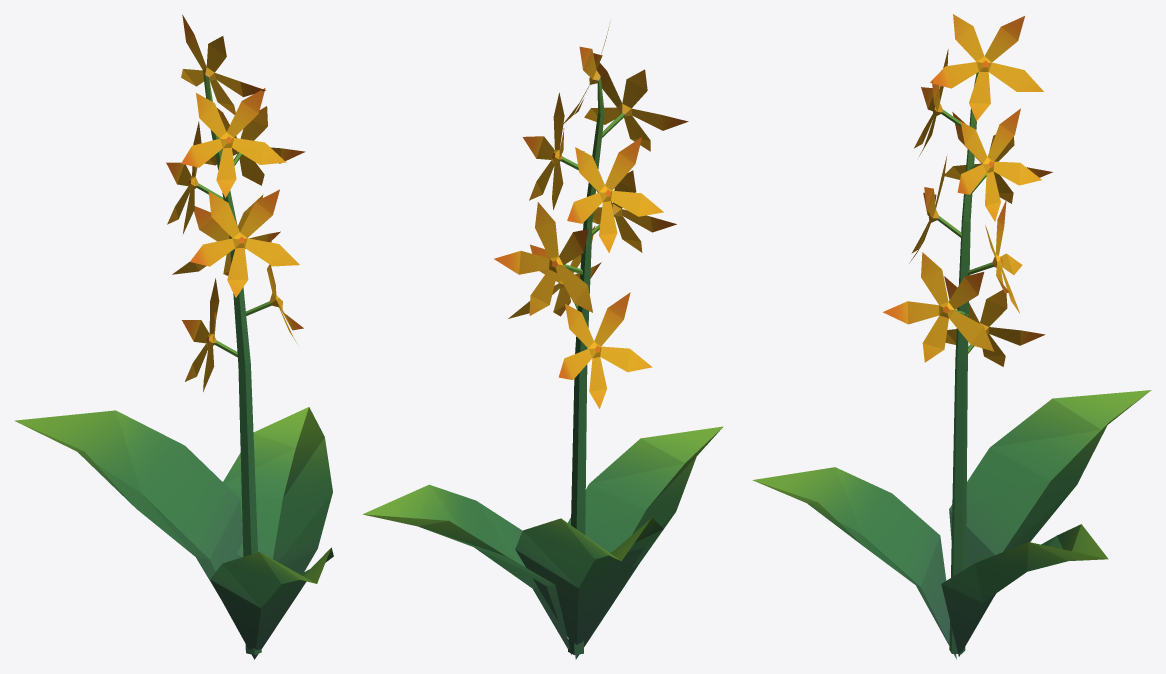
Rendered from amarilla-4.glb.
3 renders of one model, left to right at view 1: azimuth 30°, elevation 25°; view 2: azimuth 150°, elevation 25°; view 3: azimuth 270°, elevation 25°, orthographic. The views are drawn at different scales.
Visible parts, largest first — view 1: Flower.022; view 2: Flower.022; view 3: Flower.022.
Part boxes in pixels (left/top/right/bottom): Flower.022: left=14, top=14, right=333, bottom=659; Flower.022: left=362, top=22, right=723, bottom=659; Flower.022: left=752, top=14, right=1151, bottom=659.
Size of the model in its own units: 1.63 by 3.61 by 2.08.
1 material, 1 textured.
